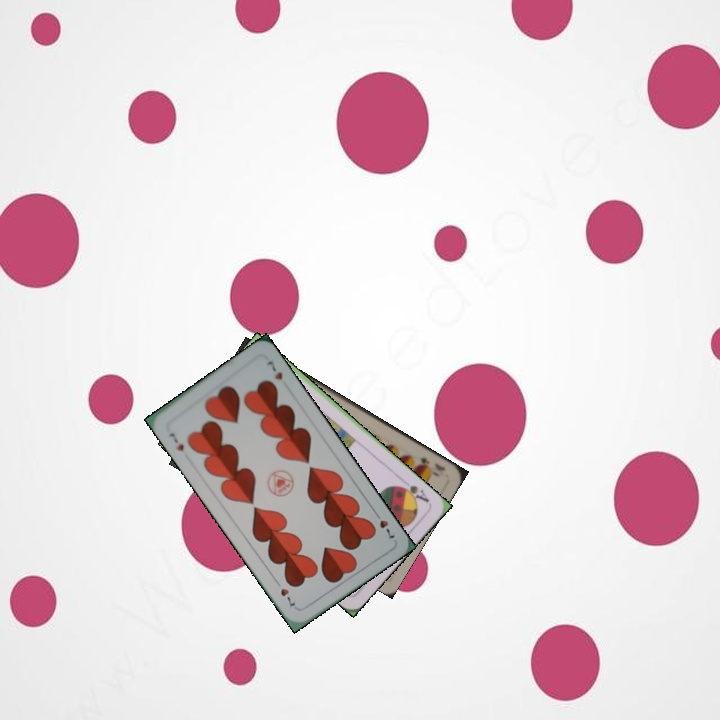E10: (414, 453, 448, 479)
H7: (369, 507, 398, 541), (164, 429, 187, 454)
SA: (394, 481, 432, 505)
